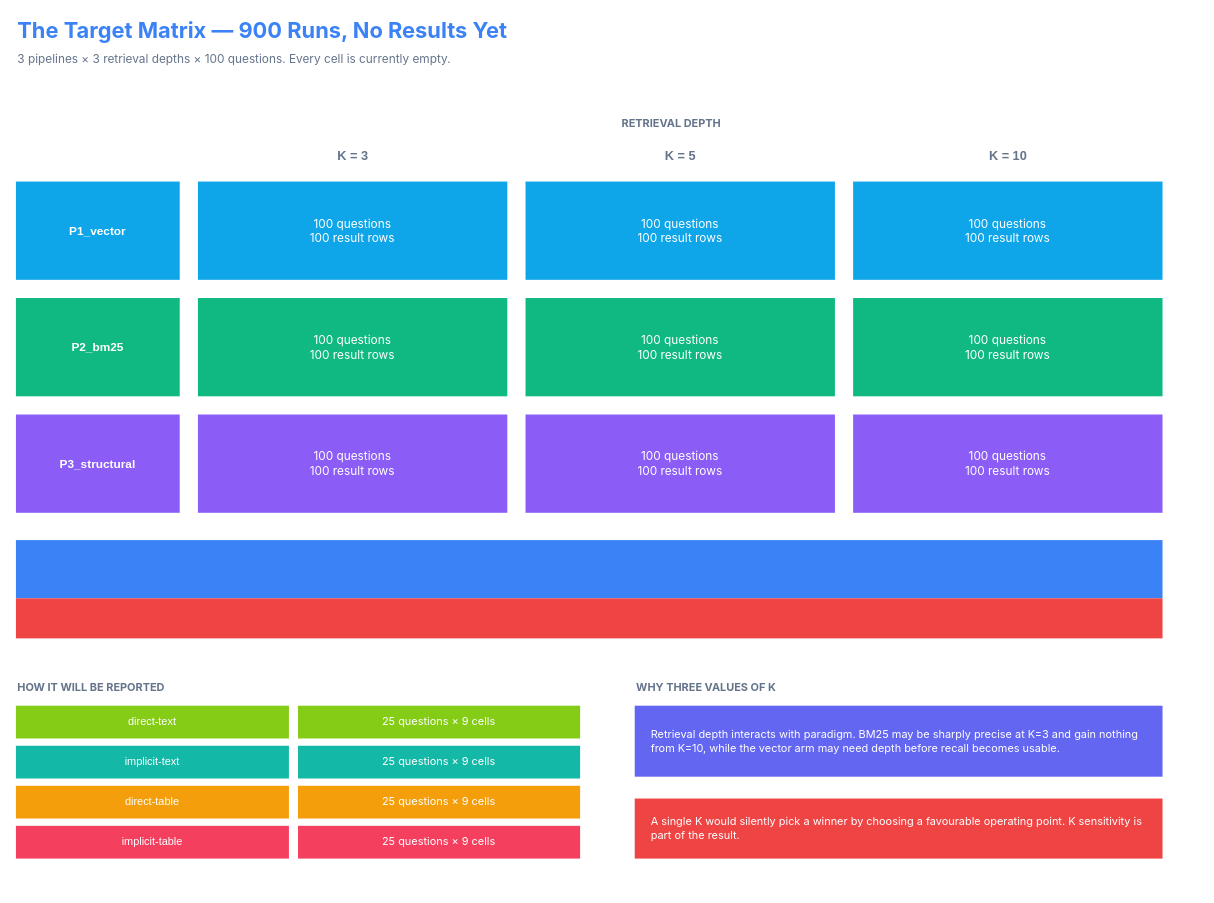
Image size: 1214x903. Some labels were removed from this diagram. Here are the shapes that lost their labels. From the top down, the box of each, then its label:
(15, 540, 1162, 598): 3 × 3 × 100 = 900 RESULT ROWS
(15, 598, 1162, 638): 0 written so far — this is a target, not a finding
